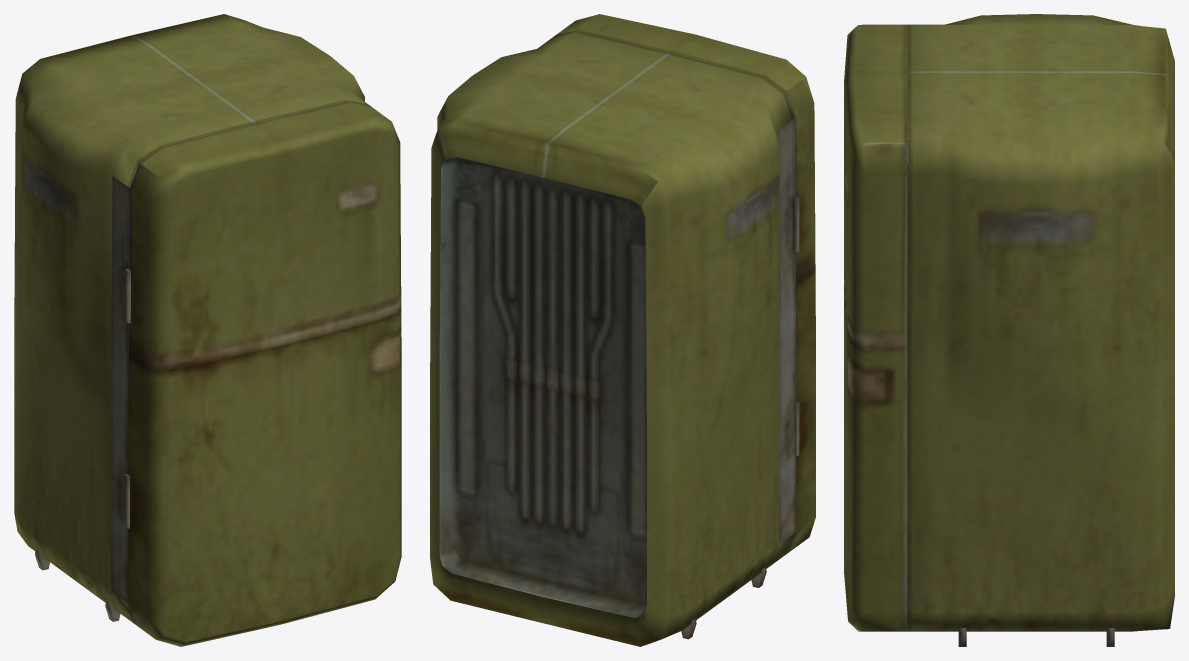
The model's file is GearsFridge.fbx.
3 views of the same model, side by side, from view 1: azimuth 30°, elevation 25°; view 2: azimuth 150°, elevation 25°; view 3: azimuth 270°, elevation 25° (orthographic). The views are drawn at different scales.
Visible parts, largest first — view 1: GOW_X360_PROP_Fridge_Mesh; view 2: GOW_X360_PROP_Fridge_Mesh; view 3: GOW_X360_PROP_Fridge_Mesh.
Boxes of the visible parts, x1,y1,x2,y2 form: GOW_X360_PROP_Fridge_Mesh: [14, 14, 401, 646]; GOW_X360_PROP_Fridge_Mesh: [430, 14, 815, 646]; GOW_X360_PROP_Fridge_Mesh: [844, 14, 1174, 646].
Size of the model in its own units: 142 by 224 by 131.
Materials: 1 (1 with a texture image).
